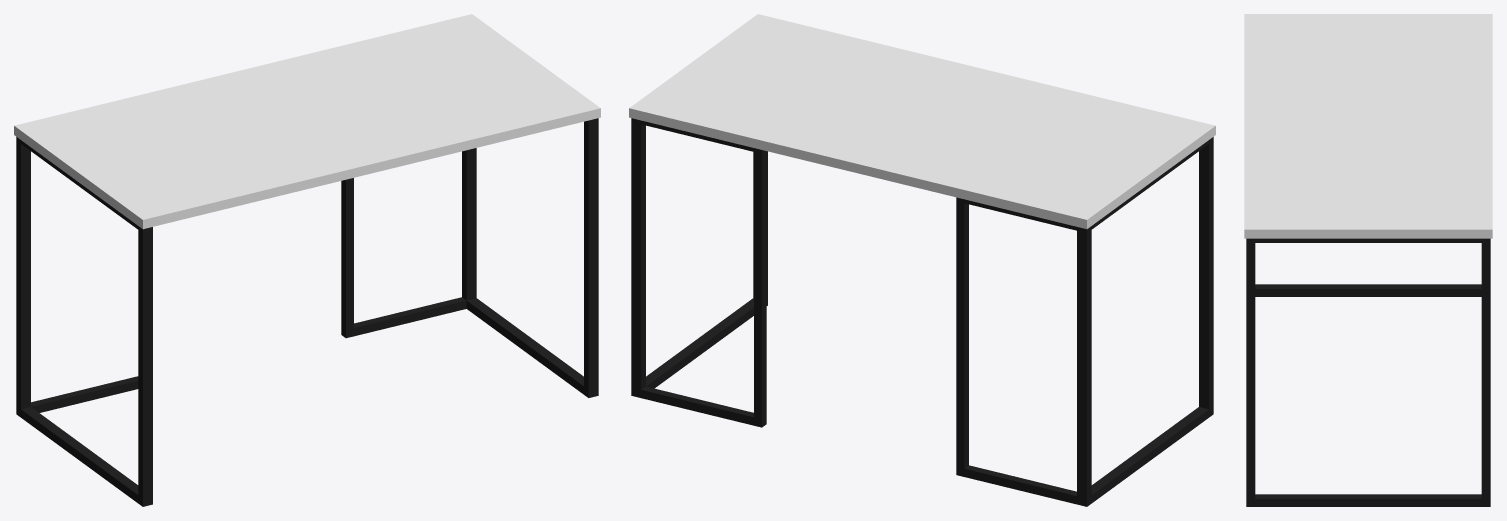
Rendered from office_table_035.glb.
3 renders of one model, left to right at view 1: azimuth 30°, elevation 25°; view 2: azimuth 150°, elevation 25°; view 3: azimuth 270°, elevation 25°, orthographic. The views are drawn at different scales.
Parts seen in each view (by area): view 1: office_table_035; view 2: office_table_035; view 3: office_table_035.
Boxes of the visible parts, x1,y1,x2,y2 form: office_table_035: (14, 14, 600, 506); office_table_035: (629, 14, 1215, 506); office_table_035: (1244, 14, 1492, 506).
Size of the model in its own units: 1.29 by 0.7738 by 0.627.
1 material, 1 textured.
